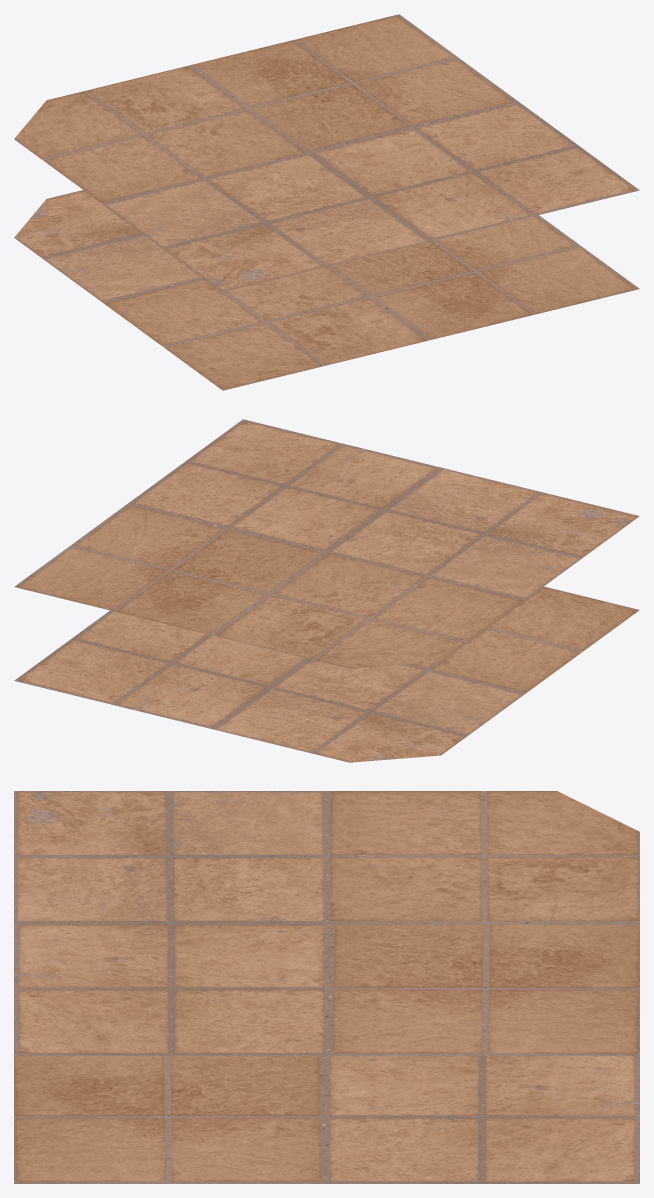
The model's file is SM_Roof_01_Floor_Corner_02.fbx.
3 views of the same model, one above another, from view 1: azimuth 30°, elevation 25°; view 2: azimuth 150°, elevation 25°; view 3: azimuth 270°, elevation 25° (orthographic). The views are drawn at different scales.
Visible parts, largest first — view 1: SM_Roof_01_Floor_Corner_02_LOD0; view 2: SM_Roof_01_Floor_Corner_02_LOD0; view 3: SM_Roof_01_Floor_Corner_02_LOD0.
Boxes of the visible parts, x1,y1,x2,y2 form: SM_Roof_01_Floor_Corner_02_LOD0: (14, 14, 639, 390); SM_Roof_01_Floor_Corner_02_LOD0: (14, 419, 639, 762); SM_Roof_01_Floor_Corner_02_LOD0: (14, 791, 639, 1183).
Size of the model in its own units: 449 by 449 by 102.
